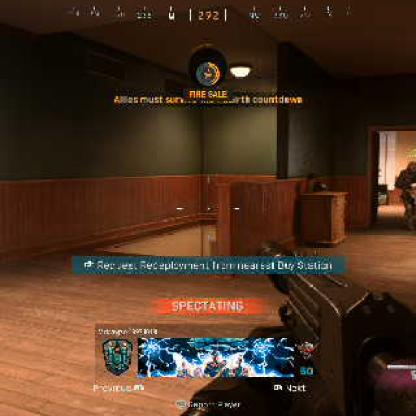enemy: (395, 161, 416, 230)
